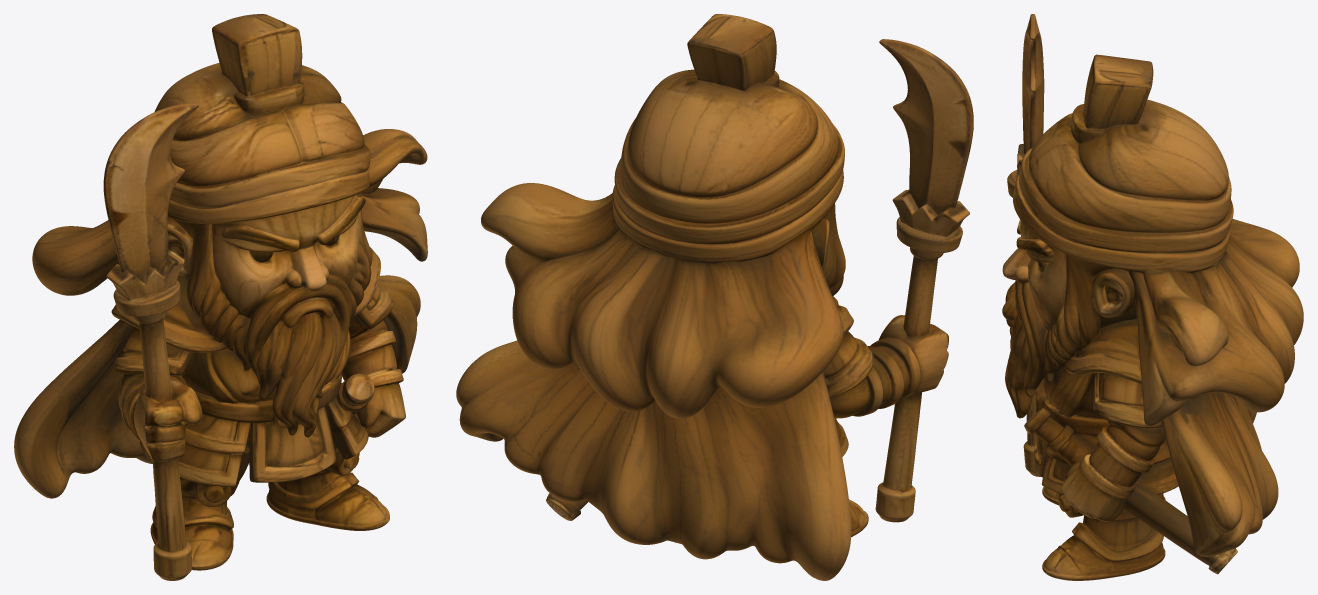
File: inputmesh1.glb
The picture shows the model from 3 angles, left to right: view 1: azimuth 30°, elevation 25°; view 2: azimuth 150°, elevation 25°; view 3: azimuth 270°, elevation 25°; orthographic projection. The views are drawn at different scales.
Visible parts, largest first — view 1: material.001; view 2: material.001; view 3: material.001.
Boxes of the visible parts, bbox=[...] form: material.001: bbox=[14, 14, 427, 580]; material.001: bbox=[456, 14, 973, 580]; material.001: bbox=[1002, 14, 1303, 580].
Size of the model in its own units: 0.8327 by 0.9512 by 0.5542.
1 material, 1 textured.
